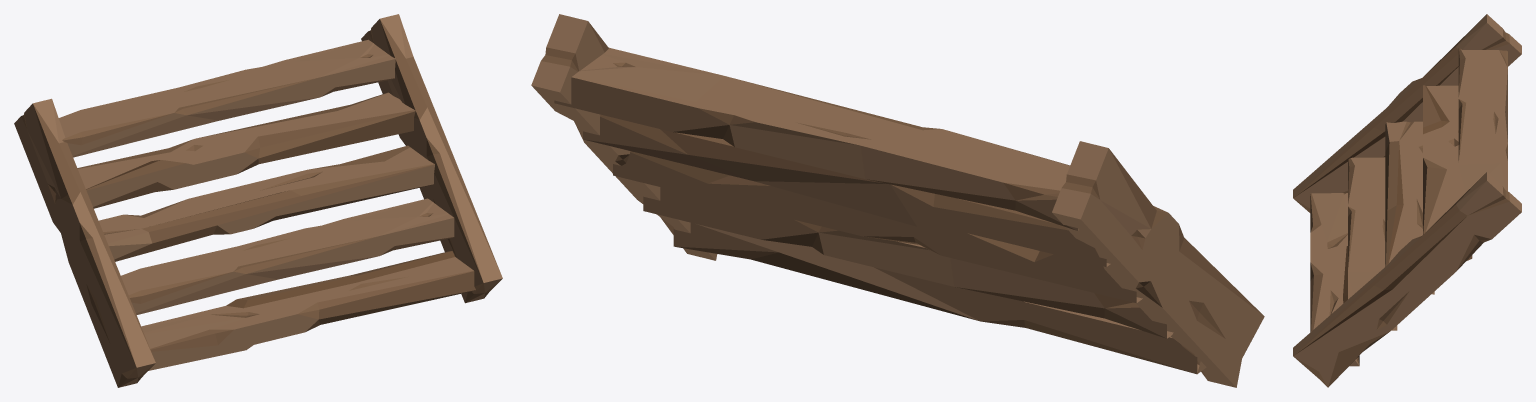
The model's file is mesh_plank_stairs_small.fbx.
The picture shows the model from 3 angles, left to right: view 1: azimuth 30°, elevation 25°; view 2: azimuth 150°, elevation 25°; view 3: azimuth 270°, elevation 25°; orthographic projection. The views are drawn at different scales.
Visible parts, largest first — view 1: mesh_plank_stairs_small; view 2: mesh_plank_stairs_small; view 3: mesh_plank_stairs_small.
Part boxes in pixels (x1,y1,x2,y2): mesh_plank_stairs_small: [14, 14, 502, 387]; mesh_plank_stairs_small: [531, 14, 1264, 387]; mesh_plank_stairs_small: [1293, 14, 1521, 387].
Bounding box in the file's own units: 2.01 × 1.16 × 1.16.
